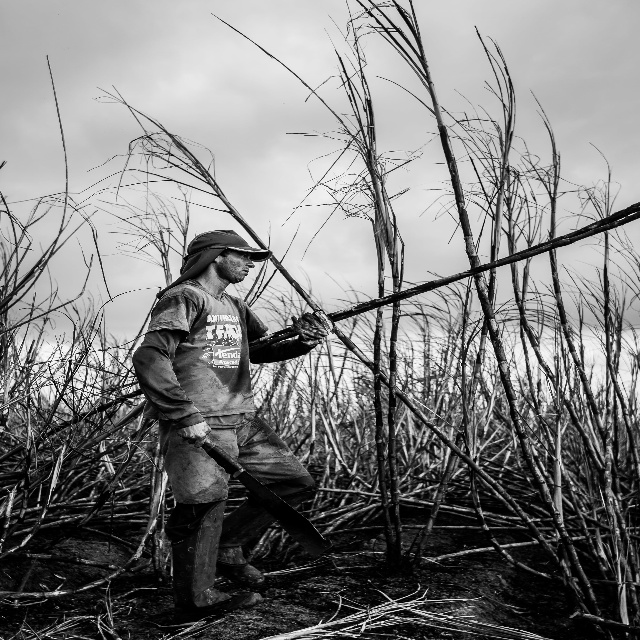Guantes: (291, 301, 334, 353)
Sin_guantes: (178, 420, 212, 449)
